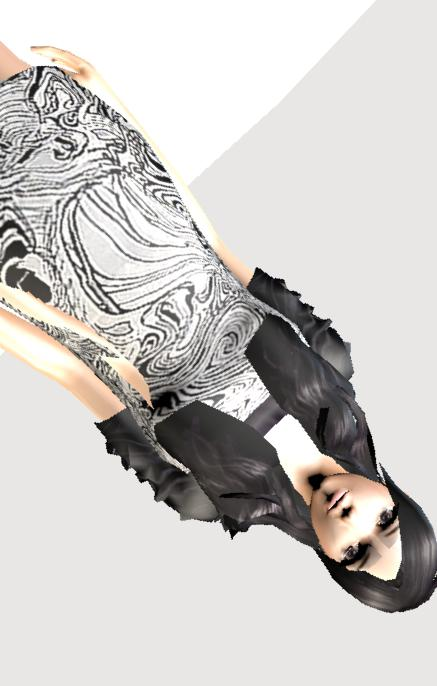clip: (117, 352, 152, 398)
